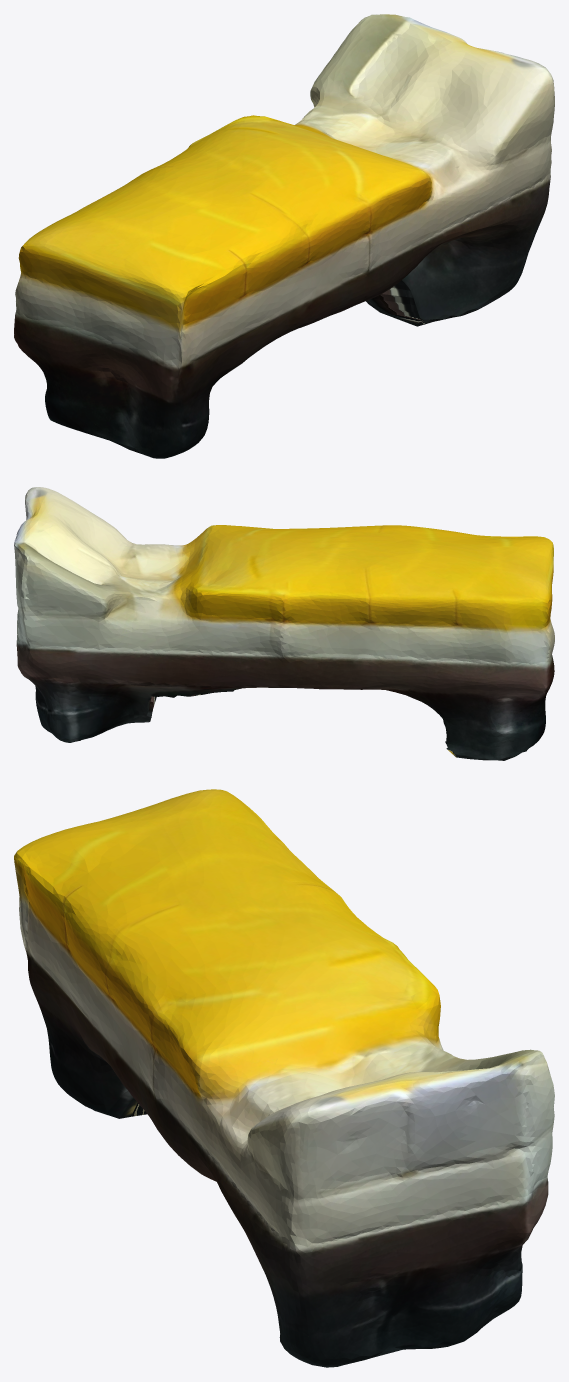
File: bed.obj
3 views of the same model, one above another, from view 1: azimuth 30°, elevation 25°; view 2: azimuth 150°, elevation 25°; view 3: azimuth 270°, elevation 25° (orthographic). The views are drawn at different scales.
Parts seen in each view (by area): view 1: poly; view 2: poly; view 3: poly.
Part boxes in pixels (x1,y1,x2,y2): poly: (14, 14, 554, 458); poly: (14, 487, 554, 760); poly: (14, 789, 554, 1367).
Size of the model in its own units: 0.2794 by 0.1142 by 0.1812.
1 material, 1 textured.
